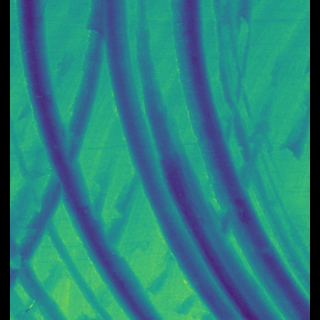Loch: (105, 0, 302, 320), (21, 0, 164, 318), (20, 113, 123, 320)
